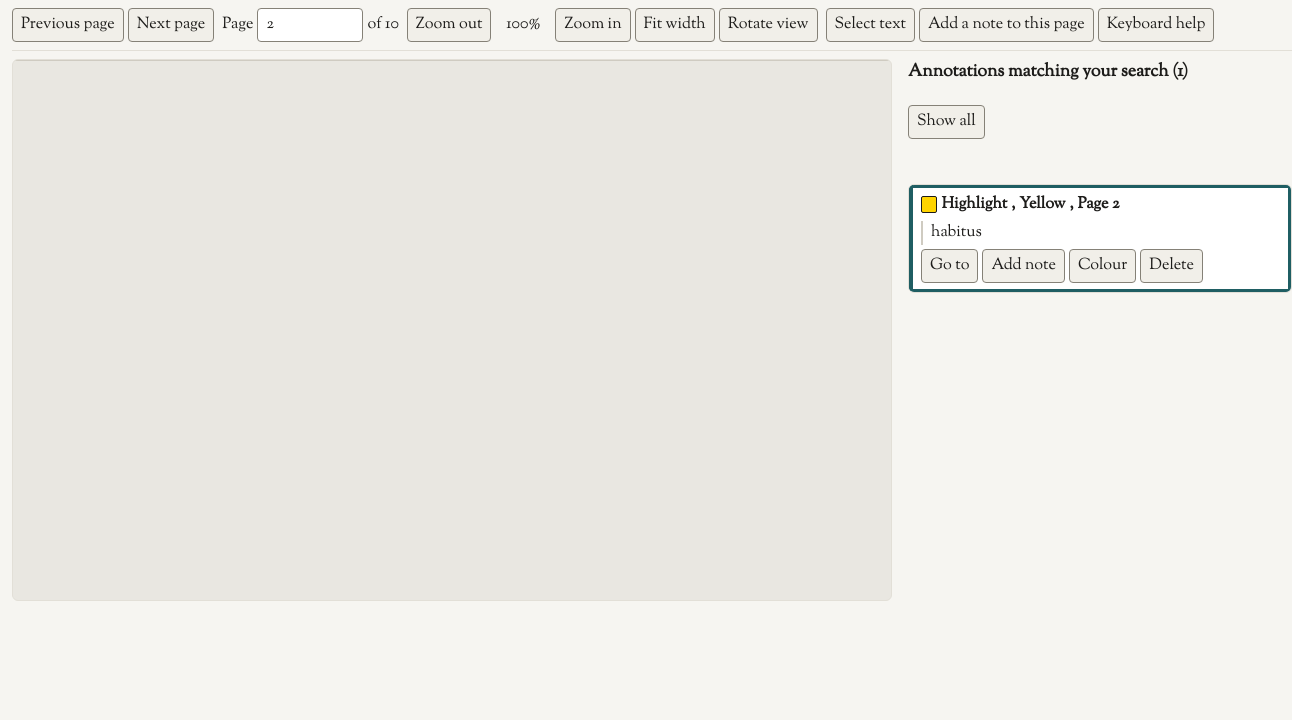
Test: the reader opened from a search hit (Task R12) › Show all returns to the whole list and keeps the focus on the entry it was on
Step 1. Click the button "Show all" → (946, 122), box [908,105,985,139]
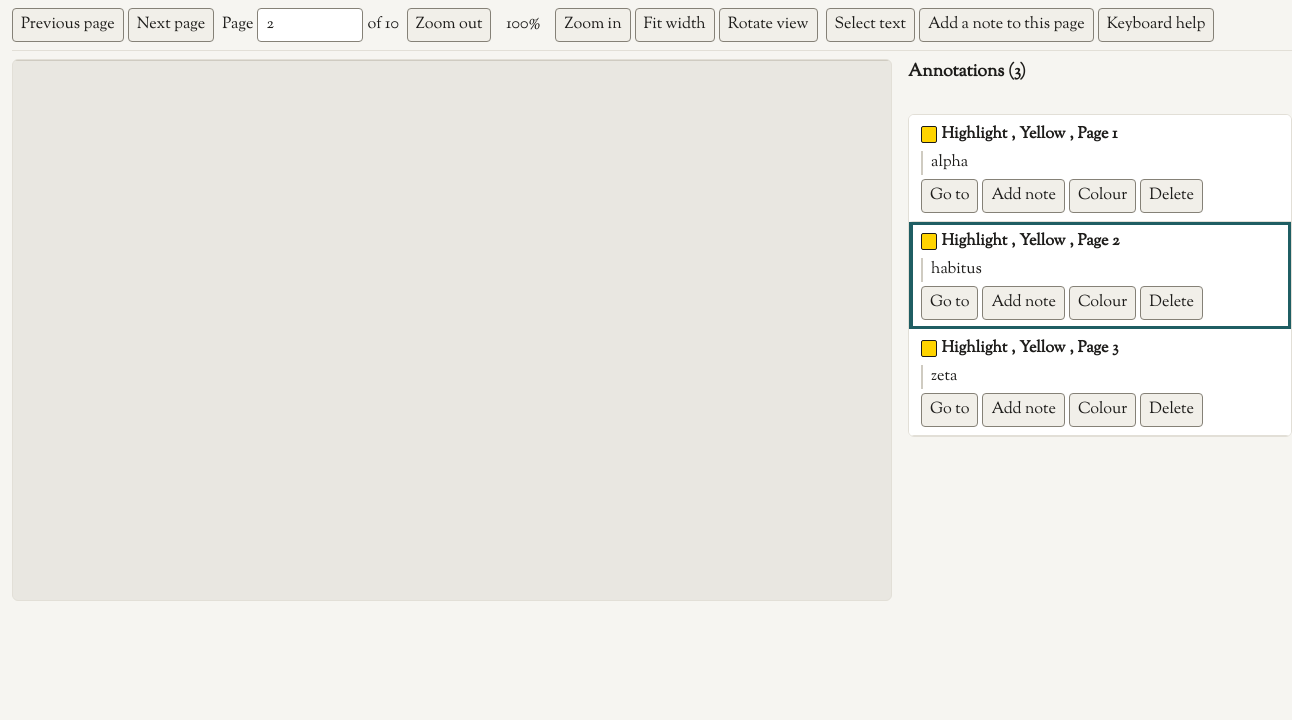
Expected: the heading "Annotations (3)" is shown, [908,59,1026,84]
